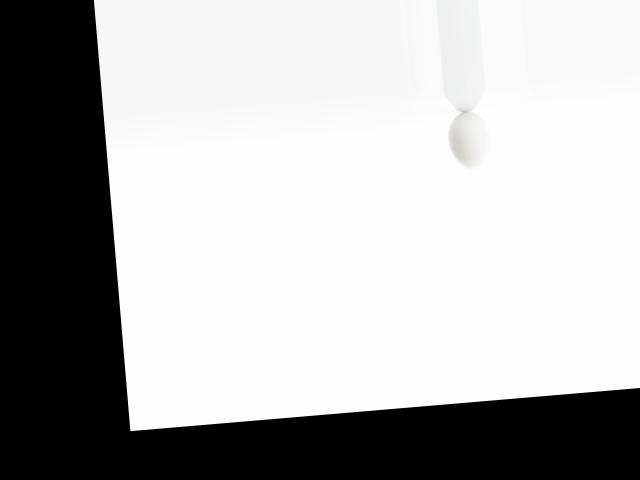egg: (446, 109, 491, 170)
